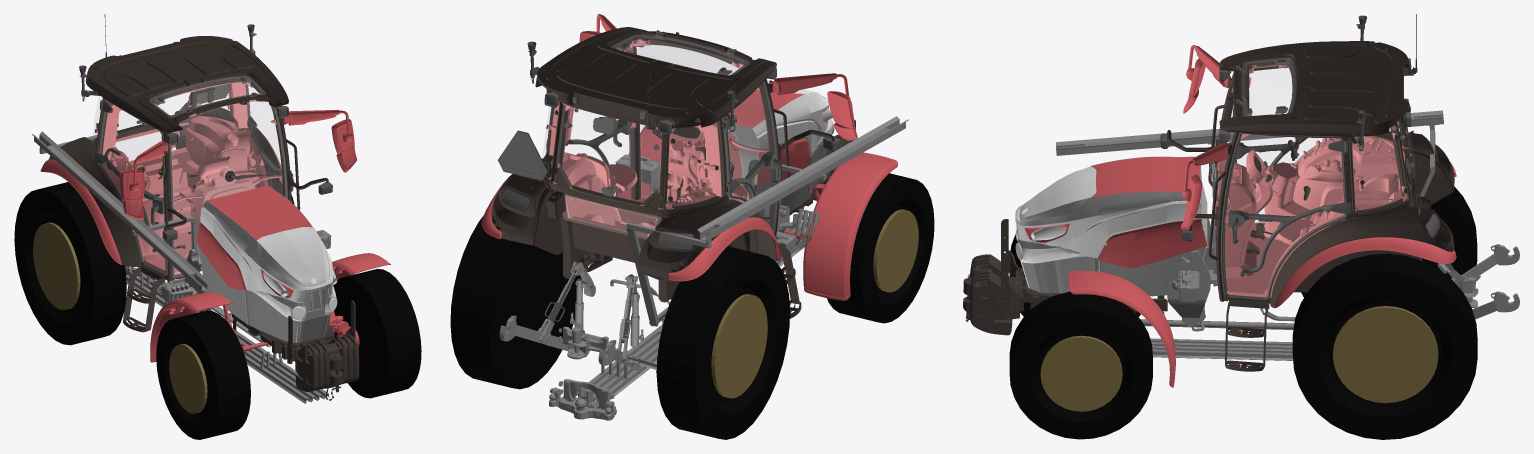
File: Main_tractor.glb
3 views of the same model, side by side, from view 1: azimuth 30°, elevation 25°; view 2: azimuth 150°, elevation 25°; view 3: azimuth 270°, elevation 25° (orthographic). The views are drawn at different scales.
Visible parts, largest first — view 1: cabin_driver, hood, visuals, Windows2, WheelRR, WheelFL, WheelFR, attacherJoints, attacherFrameFrontBase, mirrors, Cylinder.003, wheel_guard (+5 smaller); view 2: cabin_driver, WheelRR, WheelRL, attacherJoints, visuals, wheel_guard, WheelFR, hood, Cylinder.003, Windows, doorframes, lights (+7 smaller); view 3: cabin_driver, hood, WheelRL, visuals, WheelFL, attacherJoints, Cylinder.004, attacherFrameFrontBase, Cylinder, doorframes, Windows, wheel_guard (+6 smaller).
Part boxes in pixels (<box>): cabin_driver: <box>49,14,328,332</box>; hood: <box>196,185,337,344</box>; visuals: <box>96,82,282,274</box>; Windows2: <box>92,96,287,277</box>; WheelRR: <box>14,182,126,345</box>; WheelFL: <box>333,269,421,398</box>; WheelFR: <box>156,310,250,439</box>; attacherJoints: <box>32,131,331,403</box>; attacherFrameFrontBase: <box>232,300,359,400</box>; mirrors: <box>120,110,356,219</box>; Cylinder.003: <box>33,222,80,310</box>; wheel_guard: <box>150,253,390,362</box>; cabin_driver: <box>491,27,834,318</box>; WheelRR: <box>656,246,789,439</box>; WheelRL: <box>450,215,581,389</box>; attacherJoints: <box>499,116,909,420</box>; visuals: <box>547,39,769,237</box>; wheel_guard: <box>615,125,897,300</box>; WheelFR: <box>827,173,934,323</box>; hood: <box>728,80,834,216</box>; Cylinder.003: <box>711,294,767,398</box>; Windows: <box>565,33,749,199</box>; doorframes: <box>546,30,782,234</box>; lights: <box>497,41,839,249</box>; cabin_driver: <box>1167,14,1454,371</box>; hood: <box>1015,156,1207,296</box>; WheelRL: <box>1292,253,1477,439</box>; visuals: <box>1215,64,1411,297</box>; WheelFL: <box>1009,291,1152,439</box>; attacherJoints: <box>1055,110,1519,360</box>; Cylinder.004: <box>1332,306,1438,403</box>; attacherFrameFrontBase: <box>963,219,1167,335</box>; Cylinder: <box>1040,335,1122,411</box>; doorframes: <box>1221,59,1414,300</box>; Windows: <box>1235,58,1409,222</box>; wheel_guard: <box>1068,270,1175,387</box>.
Size of the model in its own units: 3.13 by 3.89 by 5.67.
